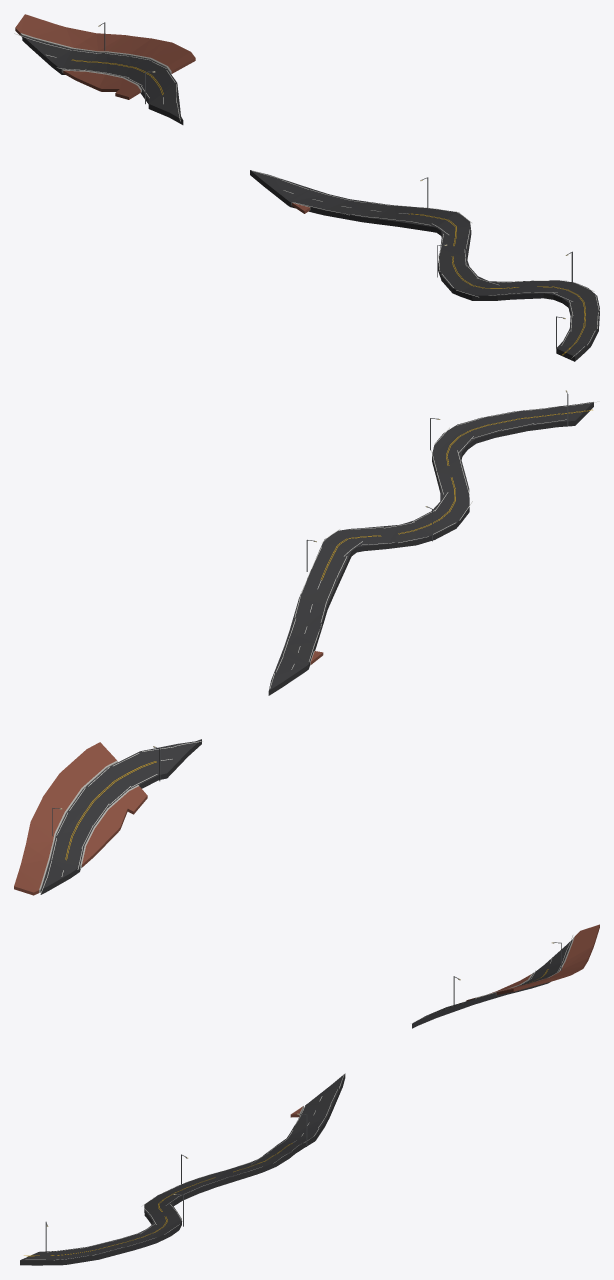
3 renders of one model, top to bottom at view 1: azimuth 30°, elevation 25°; view 2: azimuth 150°, elevation 25°; view 3: azimuth 330°, elevation 25°, orthographic.
Size of the model in its own units: 21.67 by 27.8 by 241.
